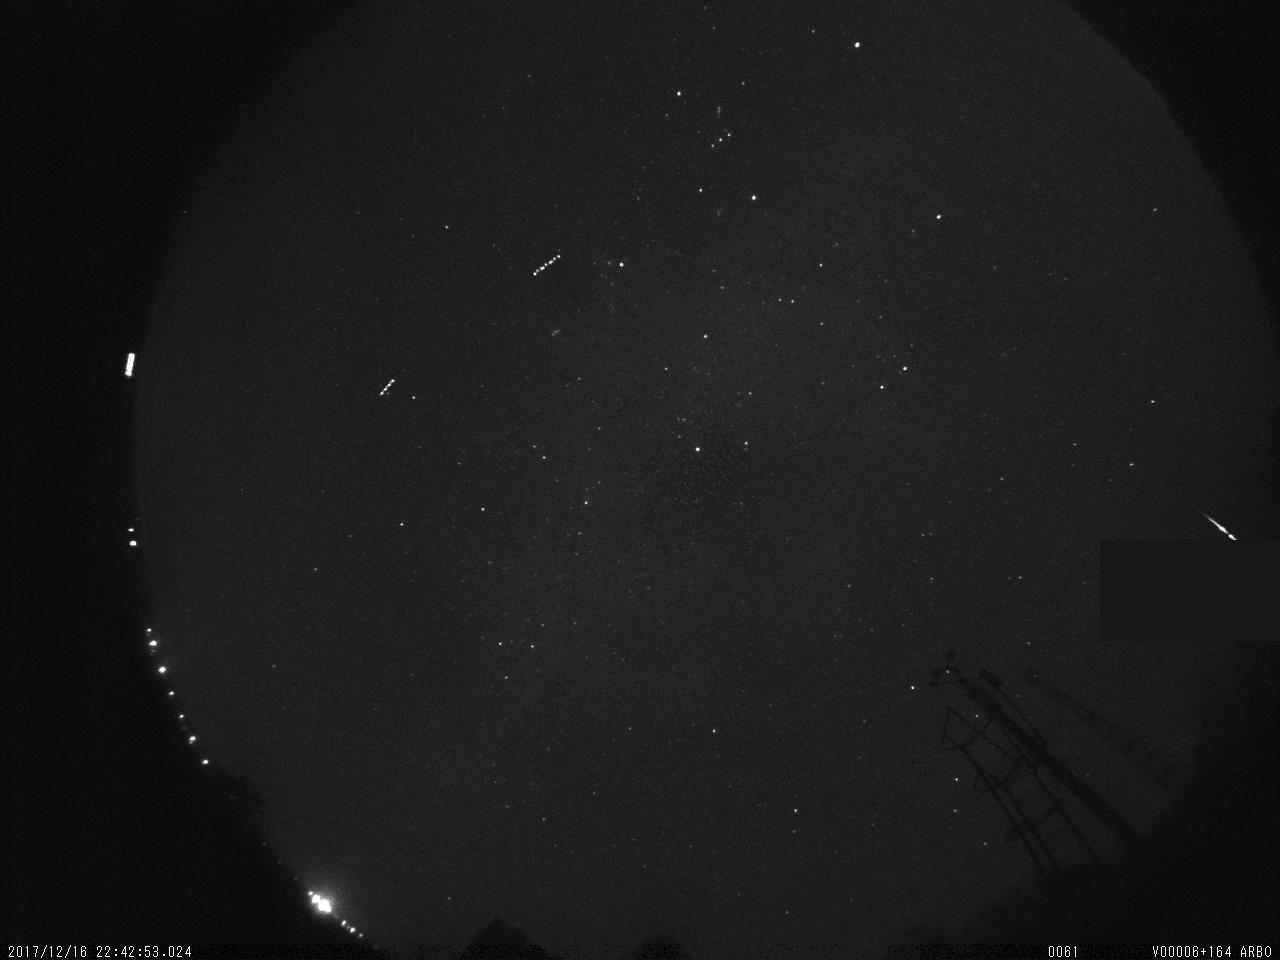Meteor: (1204, 510, 1239, 542)
